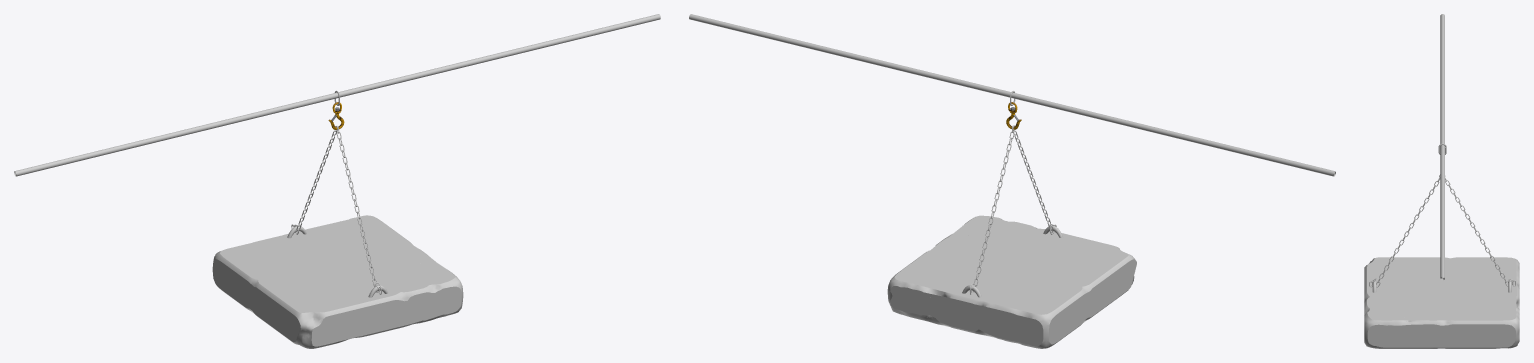
Rendered from Hook_Platform_1.fbx.
3 views of the same model, side by side, from view 1: azimuth 30°, elevation 25°; view 2: azimuth 150°, elevation 25°; view 3: azimuth 270°, elevation 25° (orthographic). The views are drawn at different scales.
Visible parts, largest first — view 1: Cube.116_dmg, Cylinder.027, Torus.008; view 2: Cube.116_dmg, Cylinder.027, Torus.009; view 3: Cube.116_dmg, Cylinder.027, Torus.008, Torus.009.
Part boxes in pixels (box(x1,y1,x2,y2)): Cube.116_dmg: box(212, 215, 463, 348); Cylinder.027: box(14, 14, 660, 176); Torus.008: box(336, 126, 381, 294); Cube.116_dmg: box(887, 215, 1136, 348); Cylinder.027: box(689, 14, 1335, 176); Torus.009: box(969, 125, 1014, 294); Cube.116_dmg: box(1364, 257, 1519, 348); Cylinder.027: box(1440, 14, 1444, 280); Torus.008: box(1369, 174, 1440, 287); Torus.009: box(1445, 175, 1515, 286).
Size of the model in its own units: 1767 by 546 by 443.
